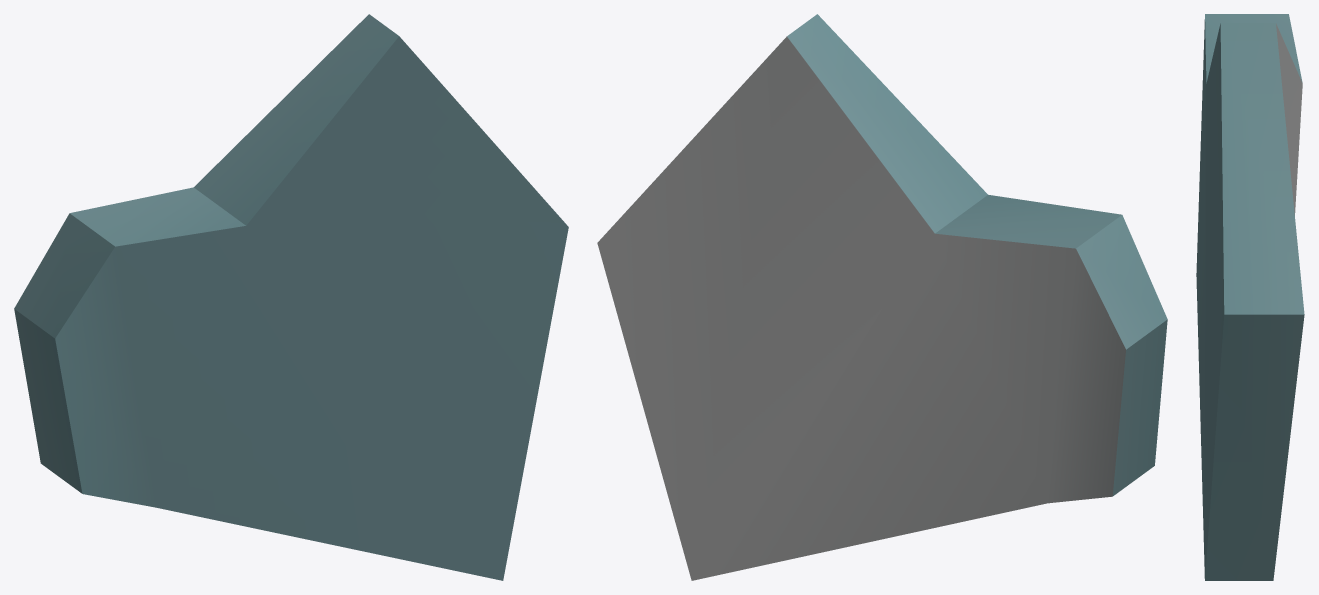
Rendered from IceDrift.010.glb.
3 renders of one model, left to right at view 1: azimuth 30°, elevation 25°; view 2: azimuth 150°, elevation 25°; view 3: azimuth 270°, elevation 25°, orthographic. The views are drawn at different scales.
Visible parts, largest first — view 1: IceDrift.010; view 2: IceDrift.010; view 3: IceDrift.010.
Boxes of the visible parts, x1,y1,x2,y2 form: IceDrift.010: [14, 14, 568, 580]; IceDrift.010: [597, 14, 1167, 580]; IceDrift.010: [1196, 14, 1304, 580].
Size of the model in its own units: 261 by 271 by 51.55.
